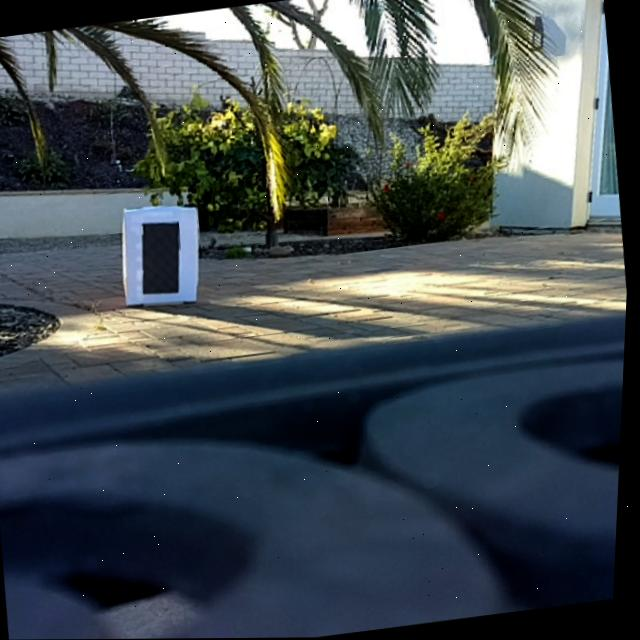led: (137, 217, 189, 299)
